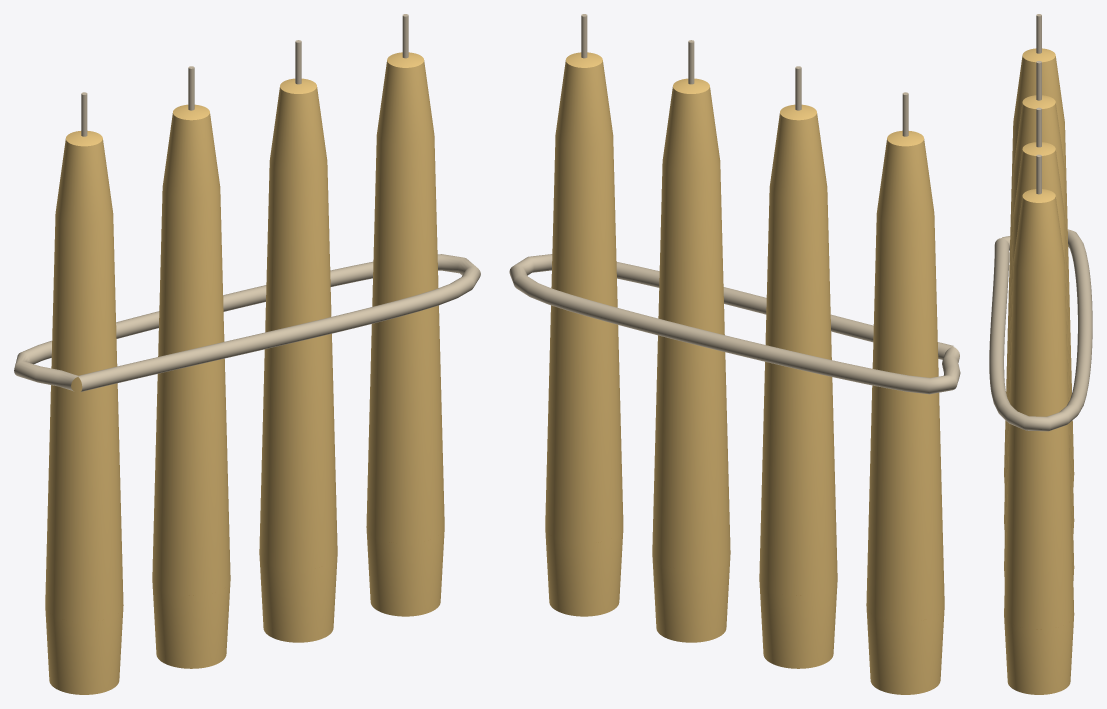
File: candlemaking-and-soap-workshop-dipped-taper-bundle-f9a51fb0__30669.glb
The picture shows the model from 3 angles, left to right: view 1: azimuth 30°, elevation 25°; view 2: azimuth 150°, elevation 25°; view 3: azimuth 270°, elevation 25°; orthographic projection. The views are drawn at different scales.
Parts seen in each view (by area): view 1: dipped-taper-bundle; view 2: dipped-taper-bundle; view 3: dipped-taper-bundle.
Part boxes in pixels (bbox=[...]): dipped-taper-bundle: bbox=[14, 14, 480, 694]; dipped-taper-bundle: bbox=[509, 14, 960, 694]; dipped-taper-bundle: bbox=[989, 14, 1092, 694].
Size of the model in its own units: 0.2527 by 0.314 by 0.0559.
